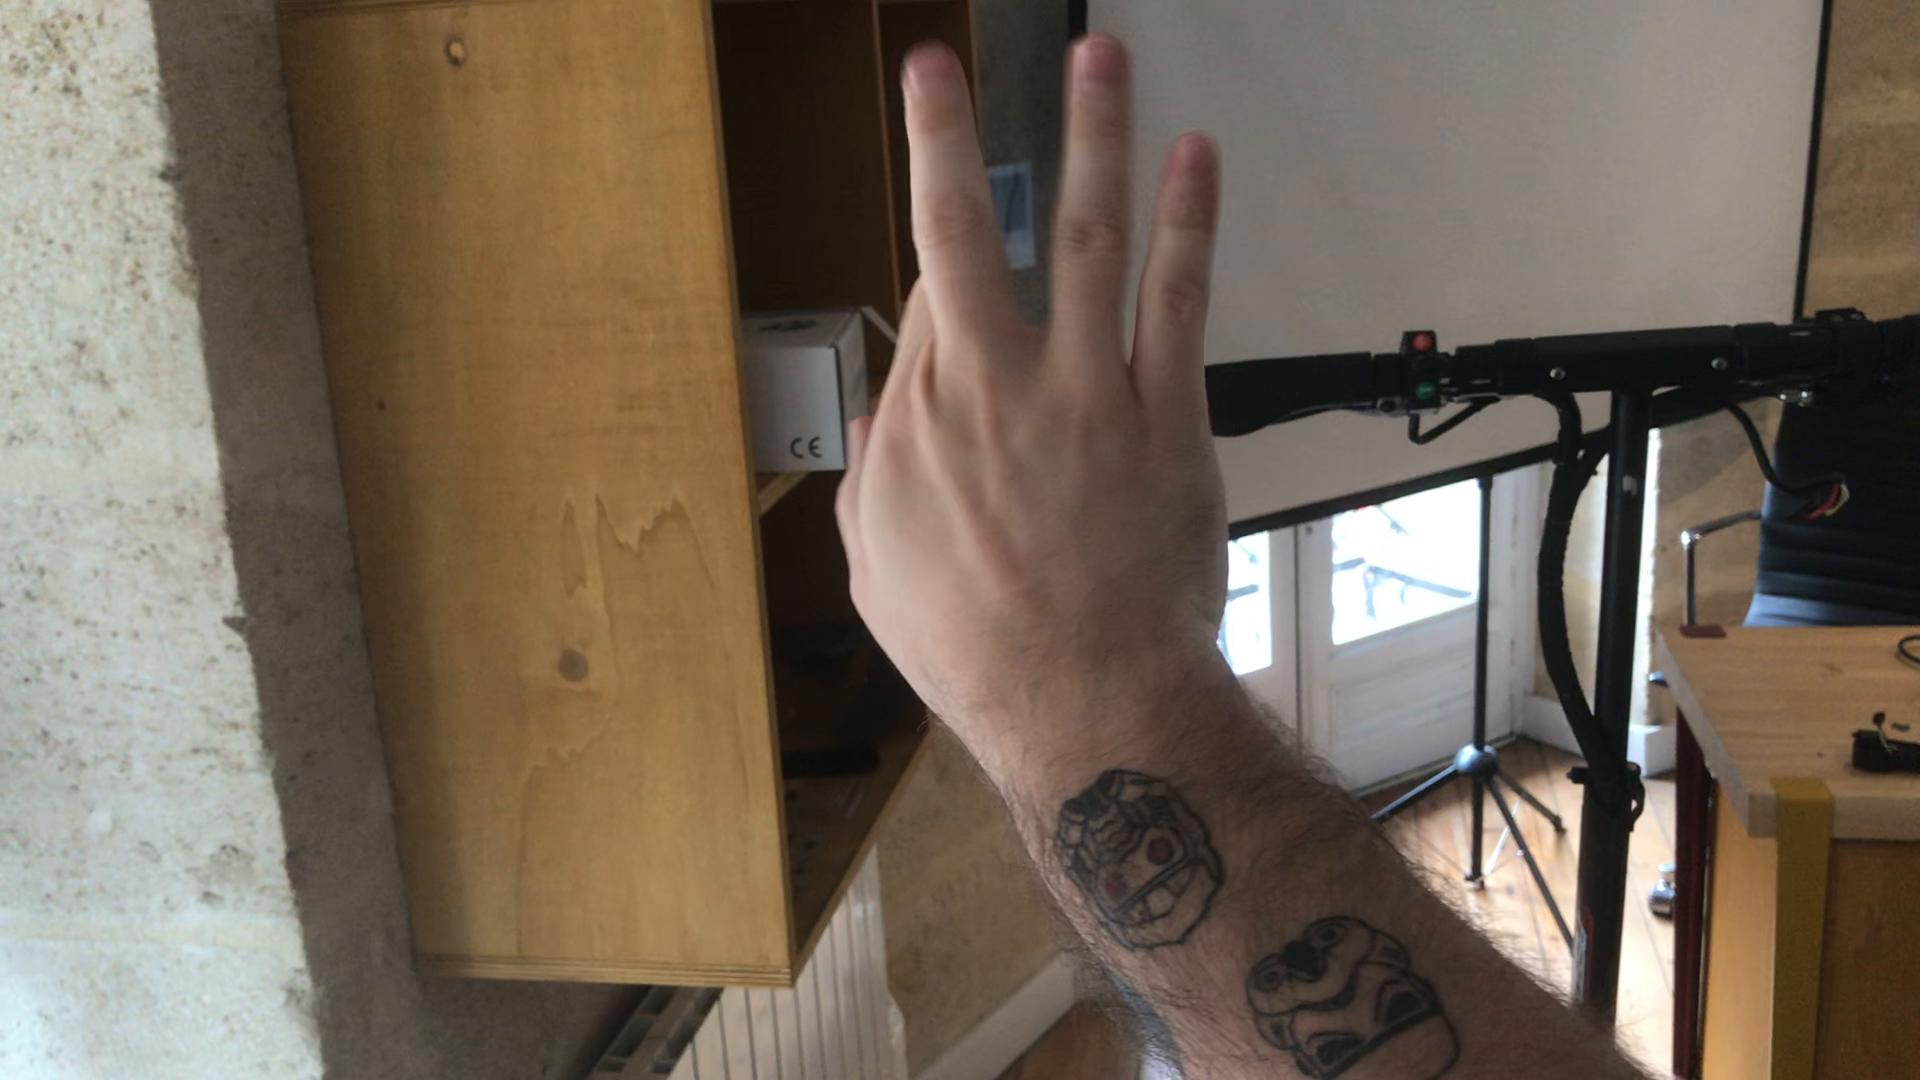hand: (827, 33, 1232, 690)
